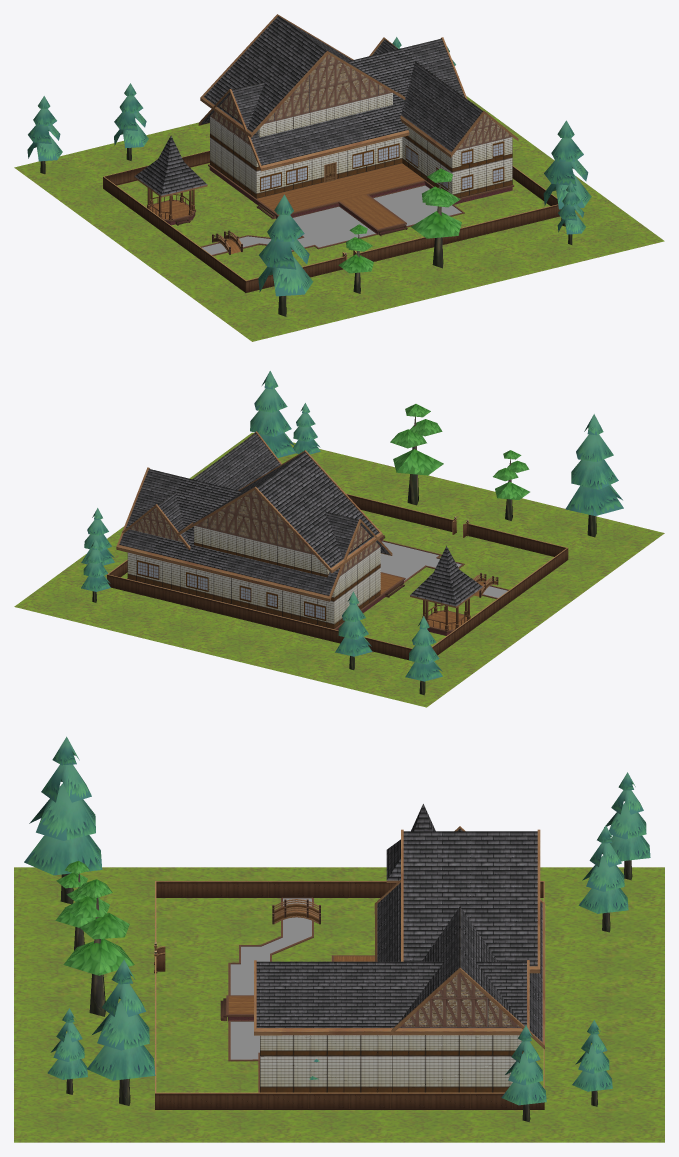
The model's file is zhuhzai_rixi01_lod.FBX.
3 renders of one model, top to bottom at view 1: azimuth 30°, elevation 25°; view 2: azimuth 150°, elevation 25°; view 3: azimuth 270°, elevation 25°, orthographic. The views are drawn at different scales.
Parts seen in each view (by area): view 1: zhuhzai_rixi01_lod, caodi, shu, shui; view 2: zhuhzai_rixi01_lod, caodi, shu, shui; view 3: caodi, zhuhzai_rixi01_lod, shu, shui.
Part boxes in pixels (x1,y1,x2,y2): zhuhzai_rixi01_lod: [103, 14, 560, 292]; caodi: [14, 96, 664, 341]; shu: [27, 37, 591, 316]; shui: [202, 185, 461, 254]; zhuhzai_rixi01_lod: [107, 431, 568, 660]; caodi: [14, 432, 664, 707]; shu: [81, 371, 623, 695]; shui: [380, 541, 507, 597]; caodi: [14, 867, 664, 1142]; zhuhzai_rixi01_lod: [154, 804, 545, 1109]; shu: [24, 736, 650, 1122]; shui: [230, 898, 311, 1059].
Size of the model in its own units: 6415 by 2022 by 6400.
